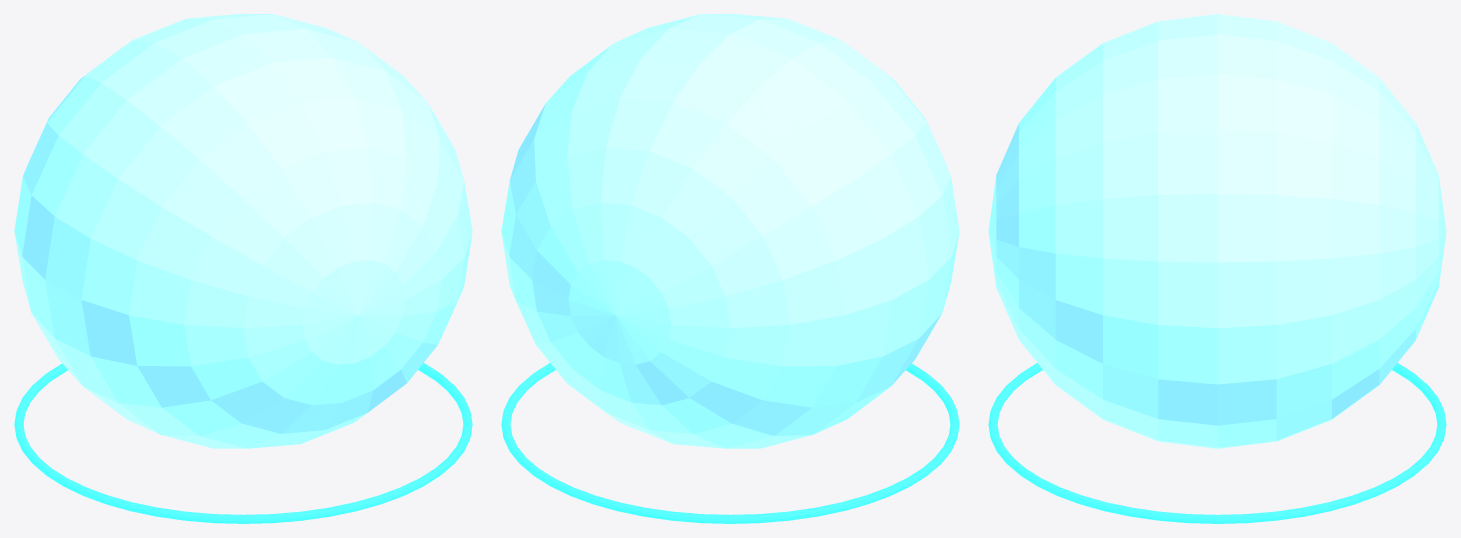
The model's file is shield_dome.glb.
3 views of the same model, side by side, from view 1: azimuth 30°, elevation 25°; view 2: azimuth 150°, elevation 25°; view 3: azimuth 270°, elevation 25° (orthographic).
Parts seen in each view (by area): view 1: Dome, DomeRim; view 2: Dome, DomeRim; view 3: Dome, DomeRim.
Boxes of the visible parts, bbox=[...] form: Dome: bbox=[14, 14, 472, 448]; DomeRim: bbox=[14, 363, 472, 523]; Dome: bbox=[501, 14, 959, 448]; DomeRim: bbox=[501, 363, 959, 523]; Dome: bbox=[988, 14, 1446, 448]; DomeRim: bbox=[988, 363, 1446, 523].
Bounding box in the file's own units: 2 × 1.9 × 2.
